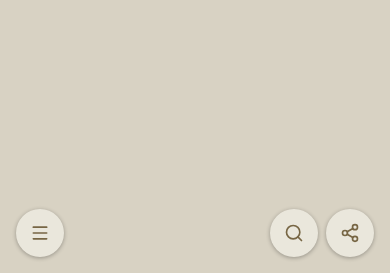
Test: FloatingToolbar › порядок пунктов меню не зависит от экрана: script
The image size is (390, 273).
Click the button named "Меню" at [40, 233], box [16,209,64,257]
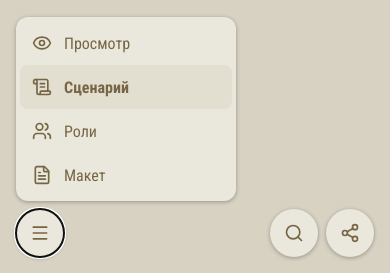
expect the list items read "Просмотр", "Сценарий", "Роли", "Макет", in this order: met, box [20,21,232,65]; [20,65,232,109]; [20,109,232,153]; [20,153,232,197]
